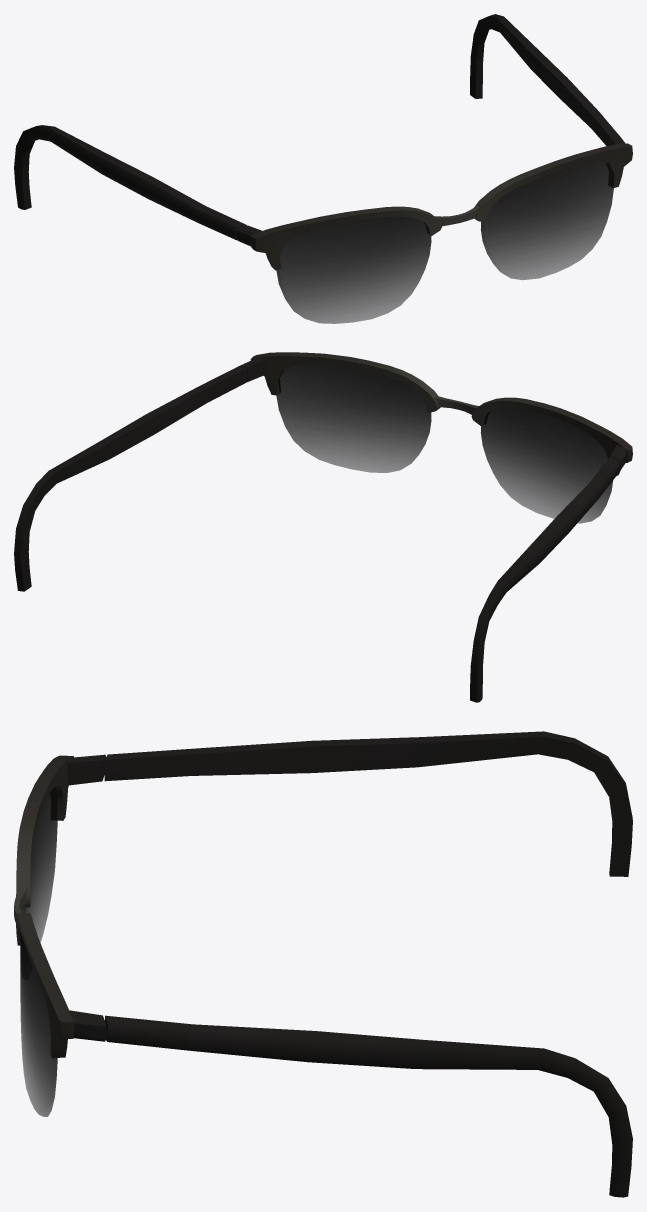
3 views of the same model, one above another, from view 1: azimuth 30°, elevation 25°; view 2: azimuth 150°, elevation 25°; view 3: azimuth 270°, elevation 25° (orthographic). The views are drawn at different scales.
Parts seen in each view (by area): view 1: Wolf3D_Glasses; view 2: Wolf3D_Glasses; view 3: Wolf3D_Glasses.
Part boxes in pixels (bbox=[...]): Wolf3D_Glasses: bbox=[14, 14, 632, 323]; Wolf3D_Glasses: bbox=[14, 352, 632, 702]; Wolf3D_Glasses: bbox=[14, 731, 632, 1197].
Bounding box in the file's own units: 0.165 × 0.0379 × 0.1315.
1 material, 1 textured.
